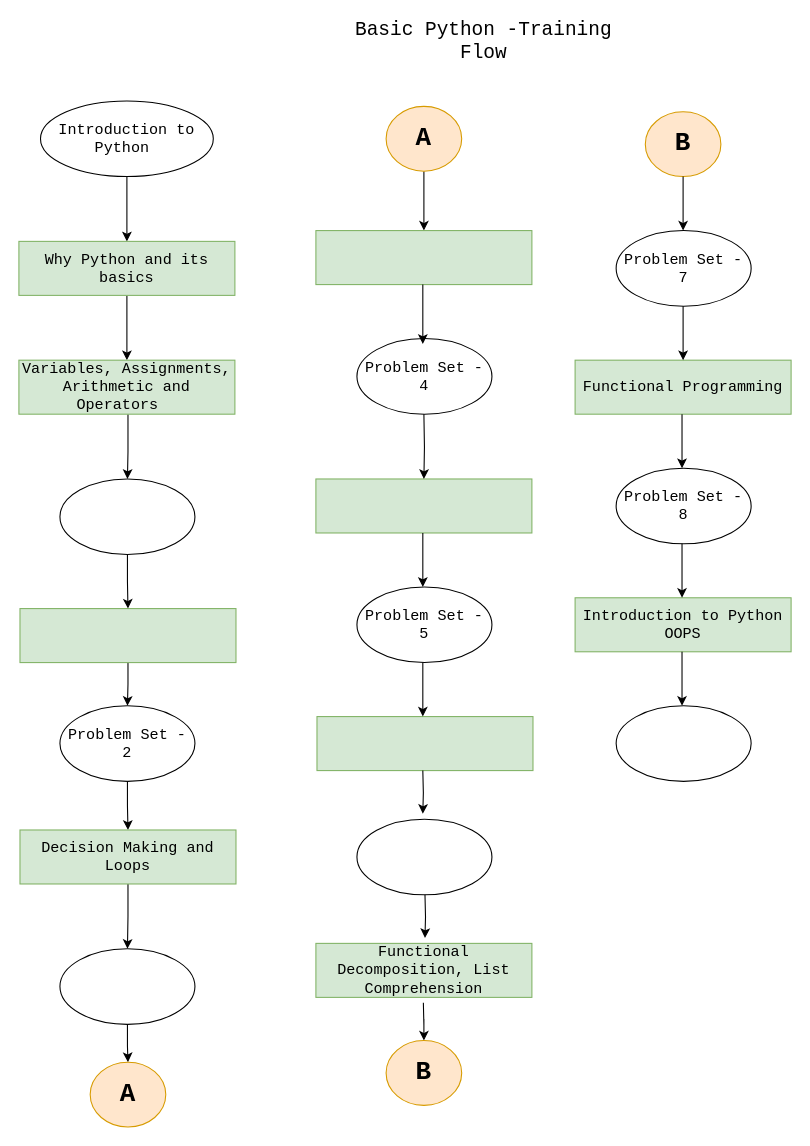
Image size: 810x1146. Some labels were removed from this diagram. Here are the shapes that lost their labels. From the top down, the centre of each, then its label:
At (423,257): "List, Set, Tuples".
At (127,516): "Problem Set - 1".
At (423,505): "Dictionary".
At (127,635): "String and String Manipulation".
At (424,743): "Functions, File I/O, Modules".
At (683,743): "Project".
At (424,856): "Problem Set - 6".
At (127,986): "Problem Set - 3".
